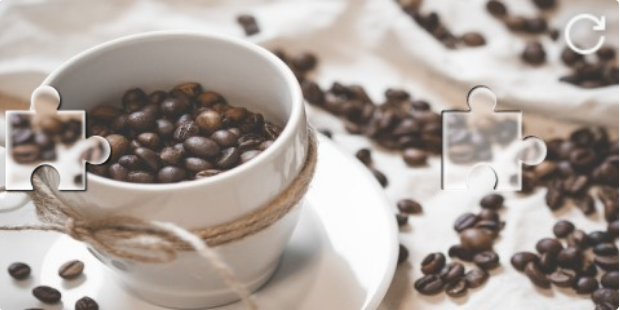target: (442, 85, 548, 191)
